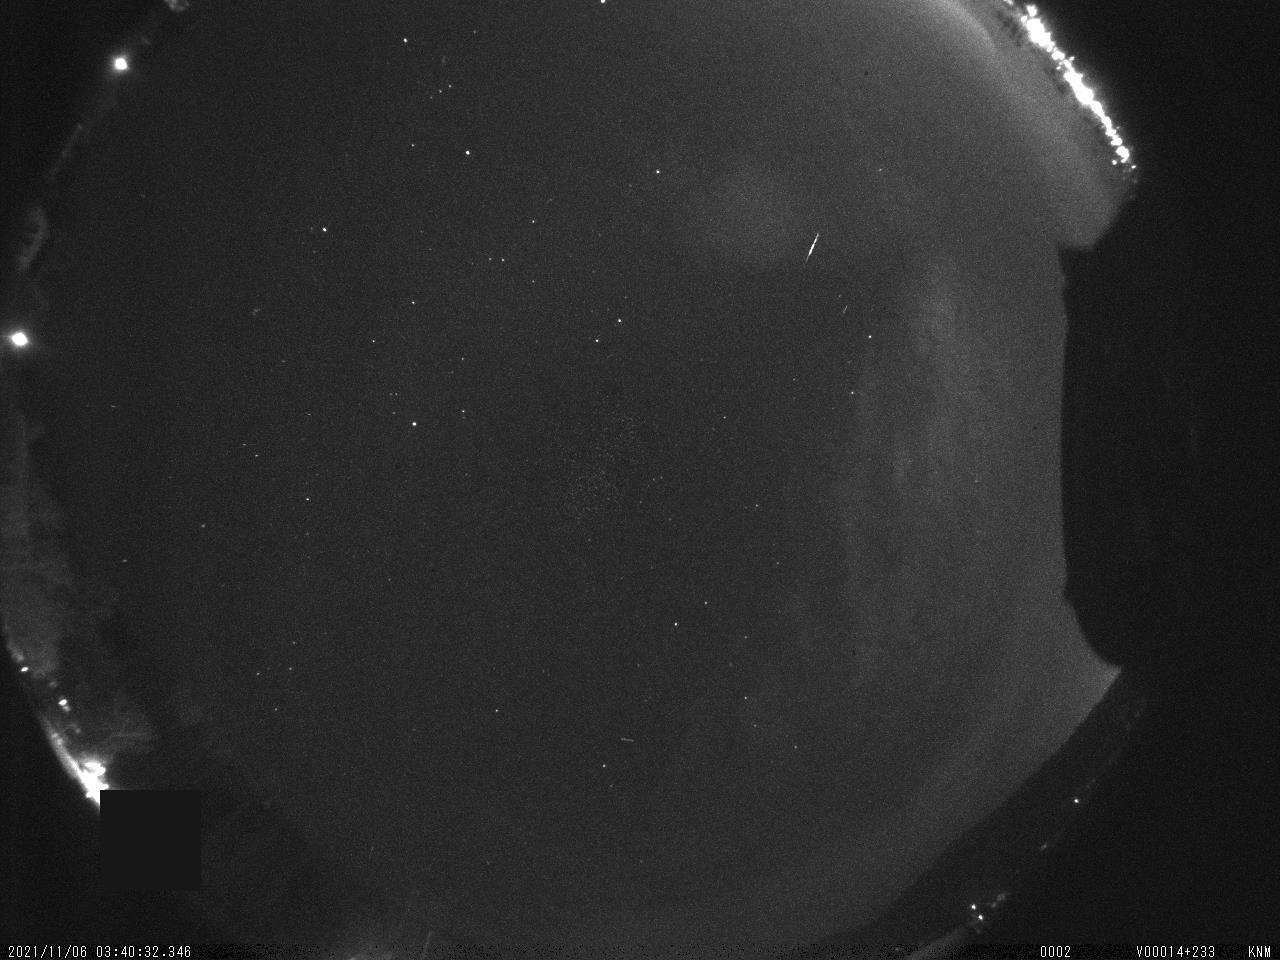Meteor: (799, 227, 827, 271)
